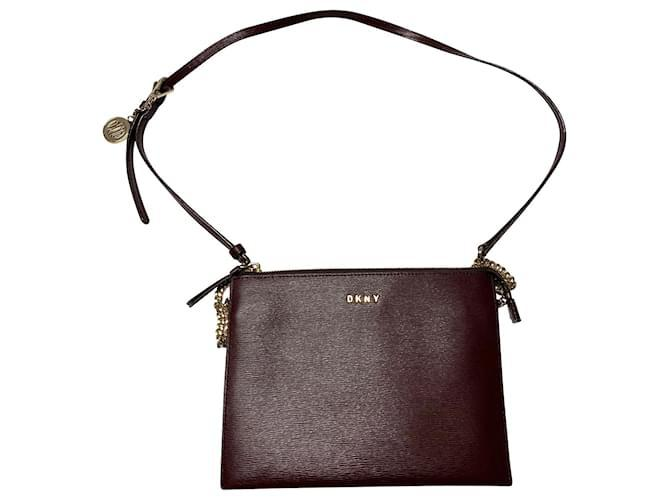DKNY: (347, 294, 380, 302)
